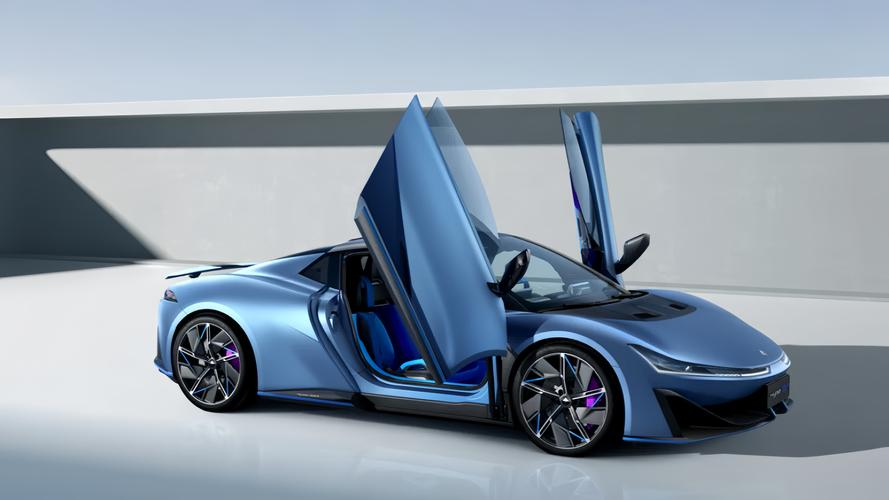汽车: (144, 95, 806, 460)
